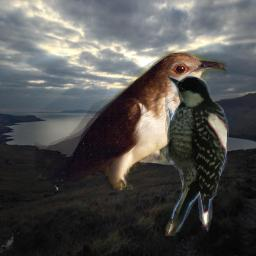Cuckoo: (35, 51, 227, 191)
Woodpecker: (165, 74, 229, 236)
